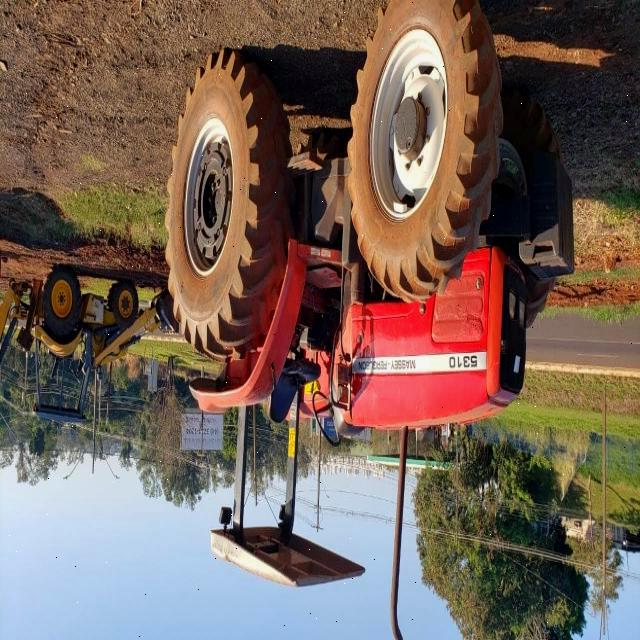Tratores - v5 YOLO V8L 2024-11-13: (165, 0, 573, 584)
